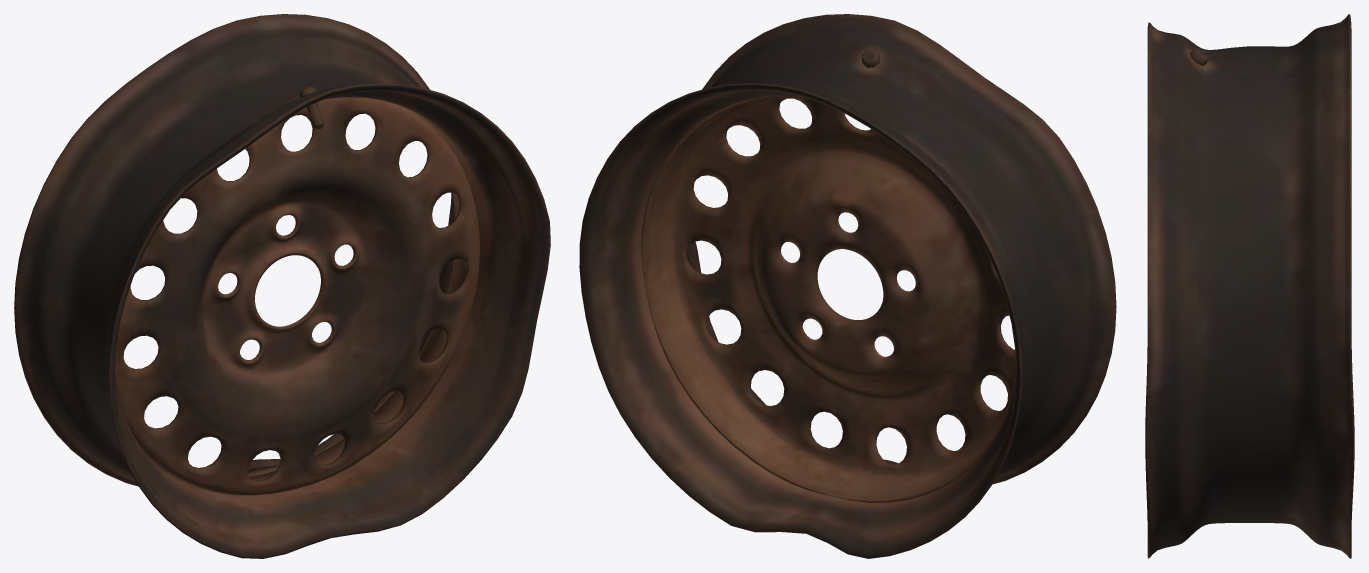
Rendered from rusted_wheel_rim_01.glb.
3 renders of one model, left to right at view 1: azimuth 30°, elevation 25°; view 2: azimuth 150°, elevation 25°; view 3: azimuth 270°, elevation 25°, orthographic. The views are drawn at different scales.
Visible parts, largest first — view 1: rusted_wheel_rim_01; view 2: rusted_wheel_rim_01; view 3: rusted_wheel_rim_01.
Part boxes in pixels (x1,y1,x2,y2): rusted_wheel_rim_01: [14, 14, 550, 558]; rusted_wheel_rim_01: [579, 14, 1116, 558]; rusted_wheel_rim_01: [1145, 14, 1354, 558].
Size of the model in its own units: 0.4029 by 0.3955 by 0.1541.
1 material, 1 textured.
